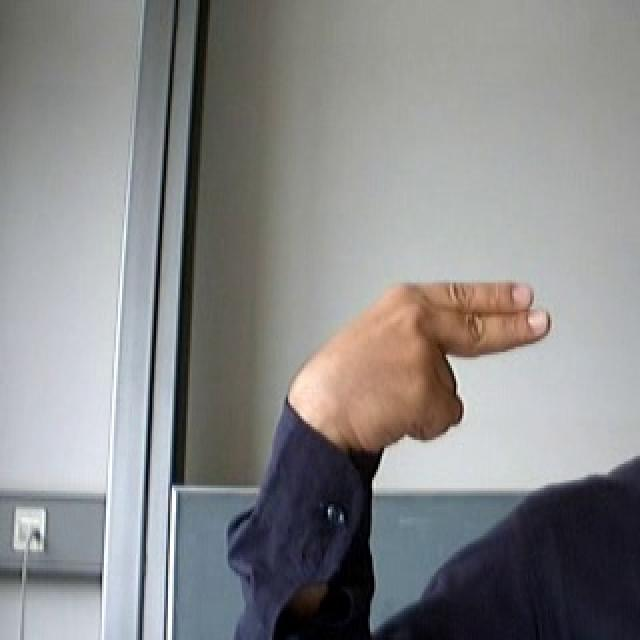H: (257, 252, 562, 507)
